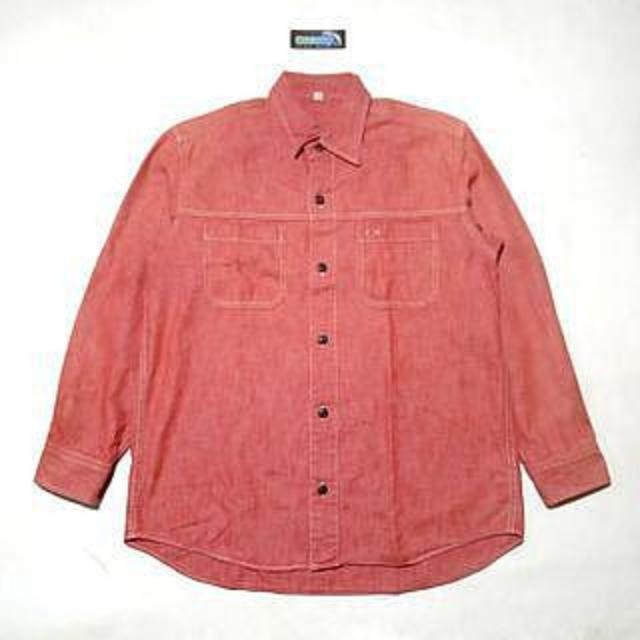SHIRT: (29, 63, 620, 602)
